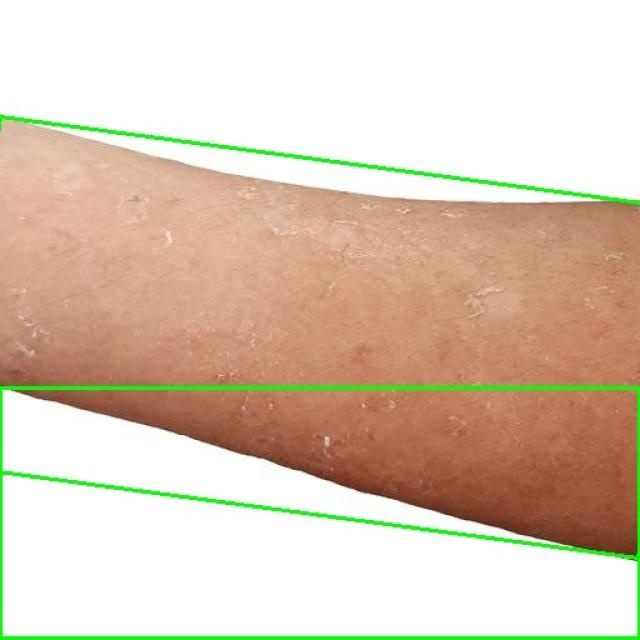Tinea Corporis: (0, 117, 640, 558), (0, 389, 639, 639)
